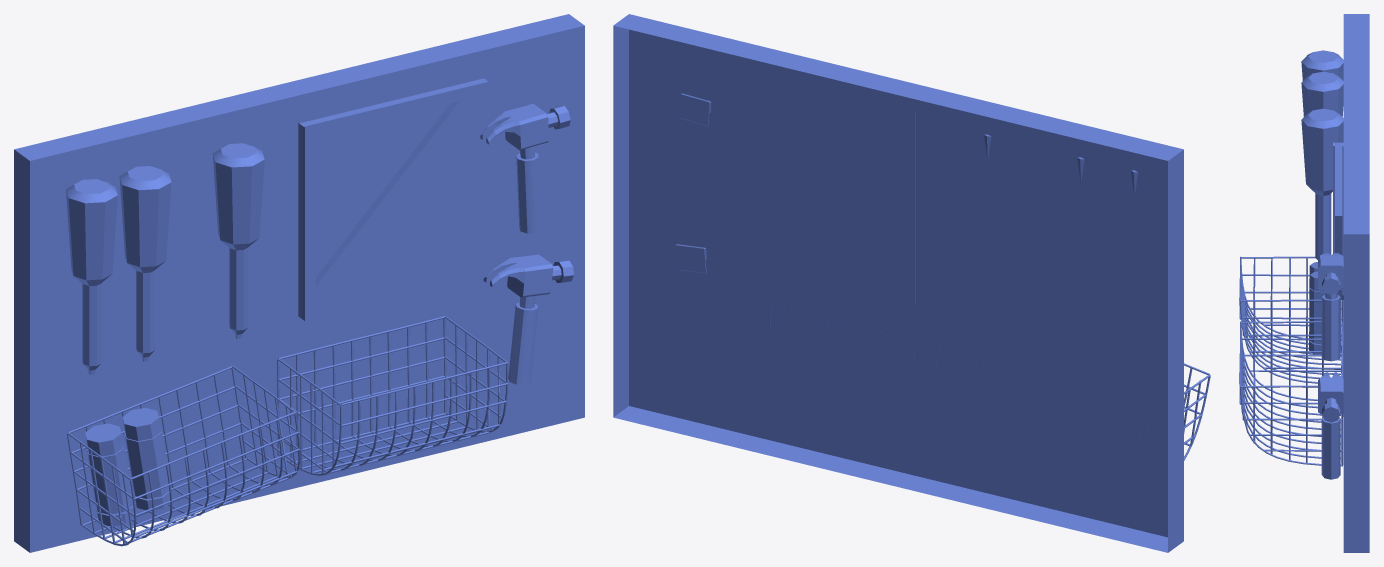
The model's file is SM_ToolsPanel.fbx.
The picture shows the model from 3 angles, left to right: view 1: azimuth 30°, elevation 25°; view 2: azimuth 150°, elevation 25°; view 3: azimuth 270°, elevation 25°; orthographic projection. The views are drawn at different scales.
Parts seen in each view (by area): view 1: tablon, destornillador, cesta.001, cesta, escuadra, martillo.001, tapa pegamento; view 2: tablon, martillo.001, cesta, escuadra; view 3: tablon, destornillador, cesta.001, martillo.001, cesta, escuadra, tapa pegamento.
Part boxes in pixels (<box>): tablon: <box>14,14,584,552</box>; destornillador: <box>66,143,264,374</box>; cesta.001: <box>277,316,508,475</box>; cesta: <box>66,365,300,546</box>; escuadra: <box>298,78,488,320</box>; martillo.001: <box>480,103,573,384</box>; tapa pegamento: <box>85,407,172,526</box>; tablon: <box>613,14,1183,552</box>; martillo.001: <box>676,93,711,273</box>; cesta: <box>979,354,1210,460</box>; escuadra: <box>912,111,915,304</box>; tablon: <box>1343,14,1369,552</box>; destornillador: <box>1301,50,1343,259</box>; cesta.001: <box>1239,321,1343,466</box>; martillo.001: <box>1318,253,1343,479</box>; cesta: <box>1239,256,1343,383</box>; escuadra: <box>1333,142,1343,299</box>; tapa pegamento: <box>1309,262,1341,354</box>.
Bounding box in the file's own units: 600 × 405 × 150.
